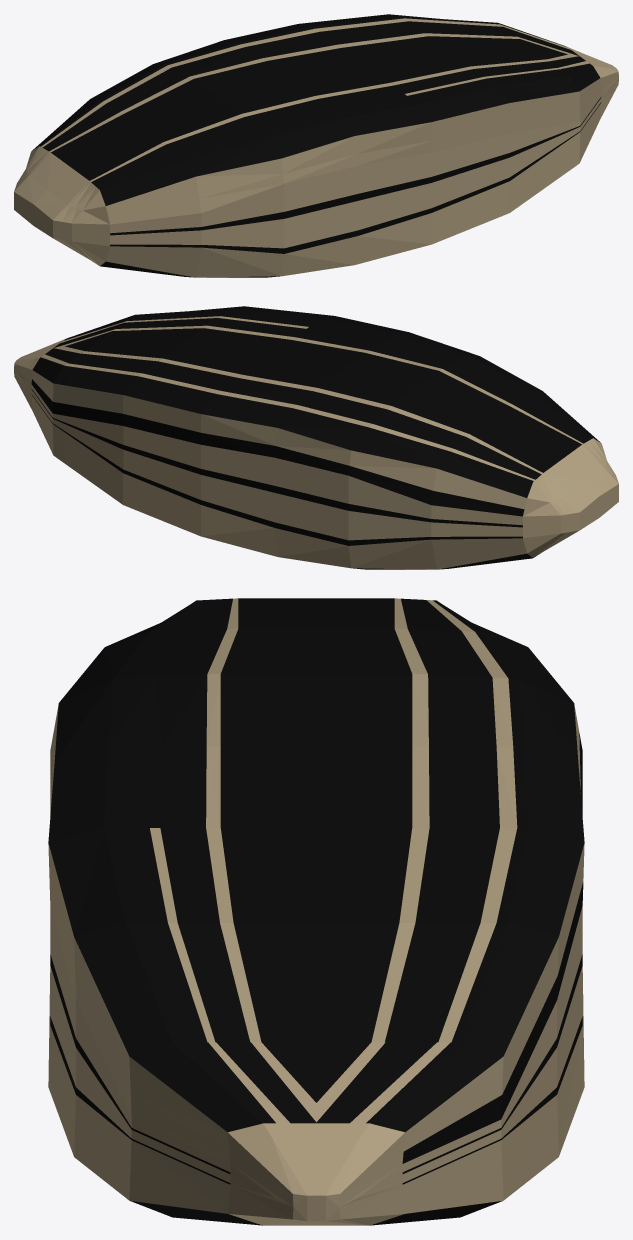
File: SunflowerSeed.fbx
The picture shows the model from 3 angles, top to bottom: view 1: azimuth 30°, elevation 25°; view 2: azimuth 150°, elevation 25°; view 3: azimuth 270°, elevation 25°; orthographic projection. The views are drawn at different scales.
Parts seen in each view (by area): view 1: Box001; view 2: Box001; view 3: Box001.
Part boxes in pixels (x1,y1,x2,y2): Box001: (14,14,618,277); Box001: (14,306,618,569); Box001: (48,598,584,1225).
Size of the model in its own units: 39.36 by 9.55 by 15.72.
